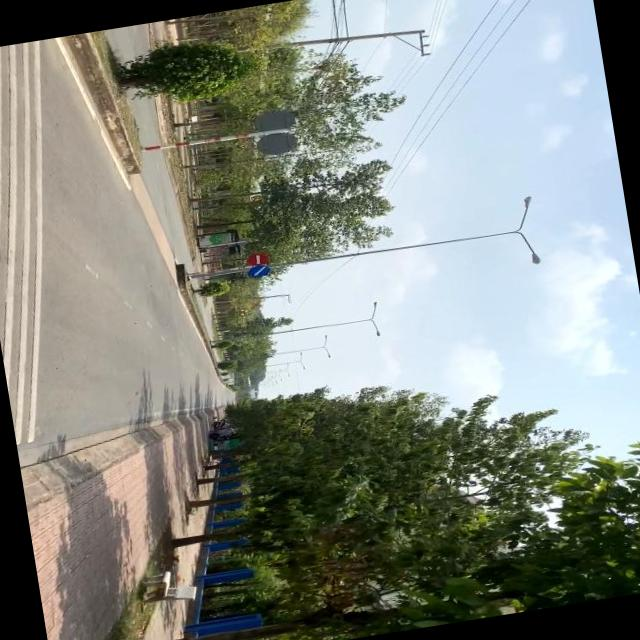P-102: (242, 250, 272, 268)
R-302a: (246, 266, 270, 278)
